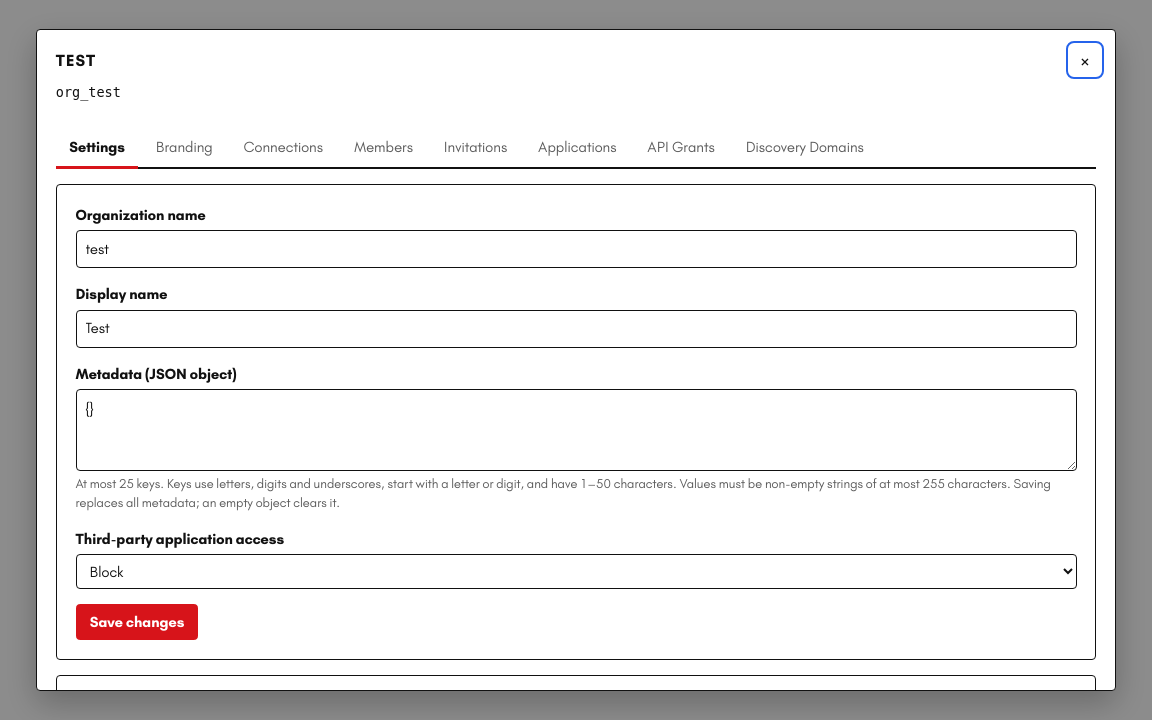
Test: retries transient capability errors without permanently disabling invitations
Step 1. Press the mouse on the tab "Invitations" → coordinates (476, 149), box left=430, top=129, right=521, bottom=169
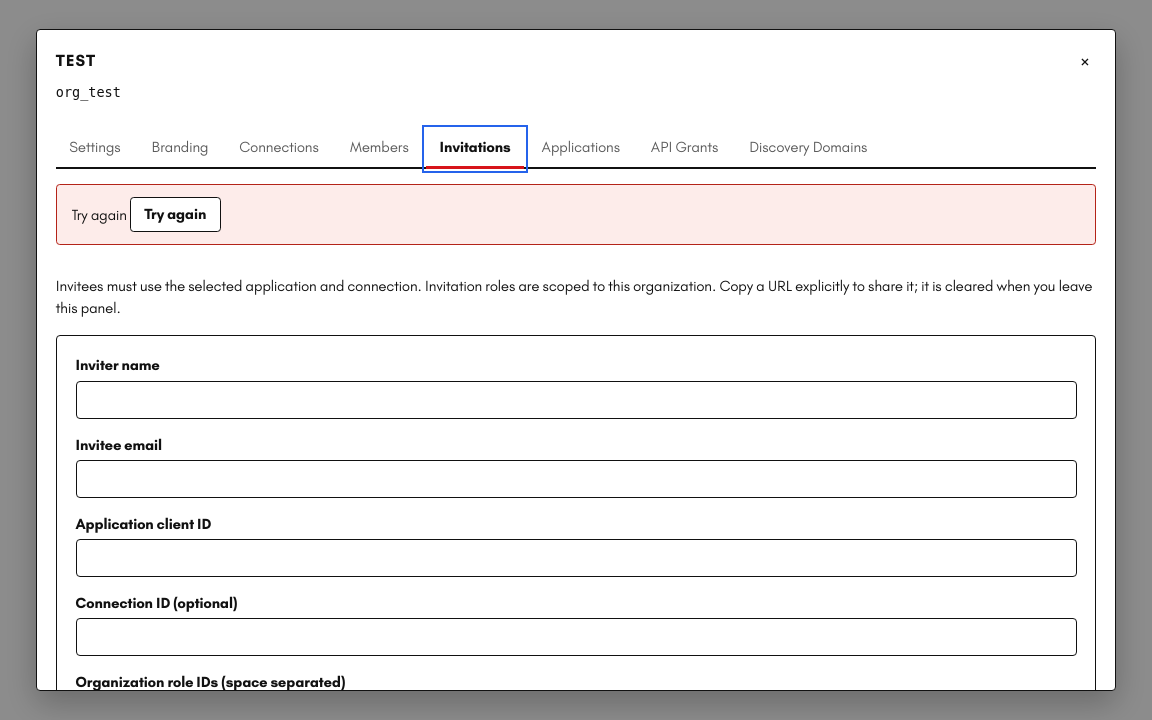
Now the button "Try again" is shown
Step 2. Click the button "Try again" → coordinates (175, 214), box left=130, top=196, right=220, bottom=232
(page scrolled)
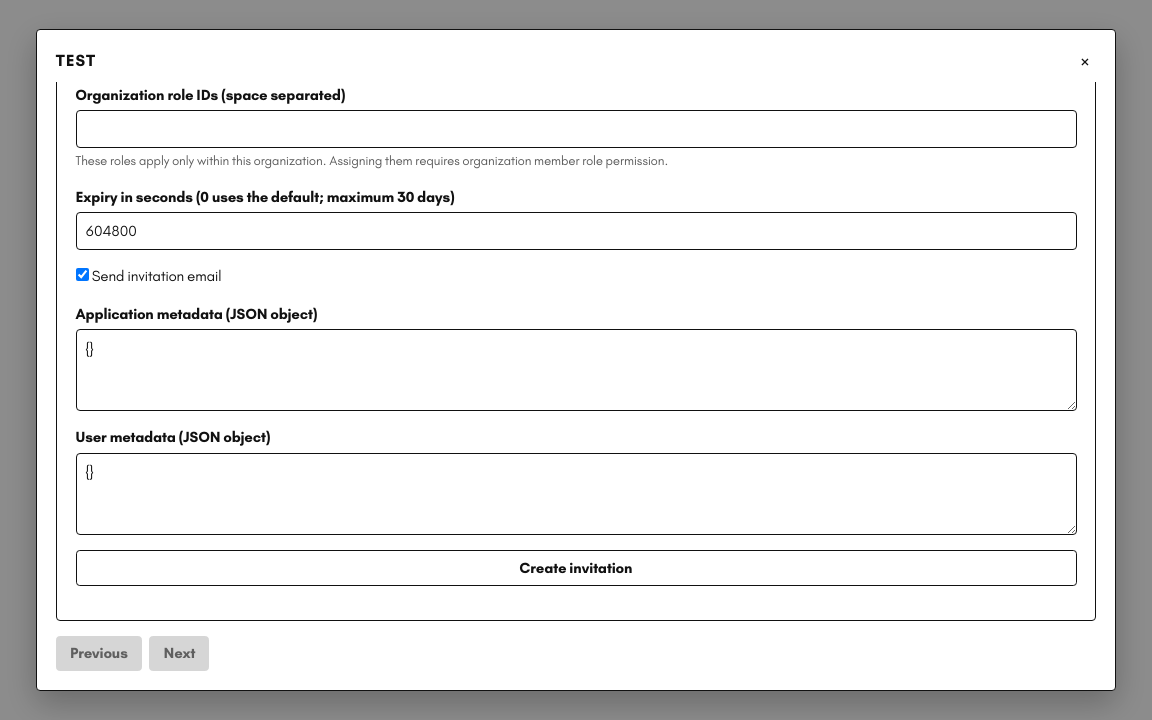
Now the submit button is enabled, box left=76, top=550, right=1076, bottom=586
